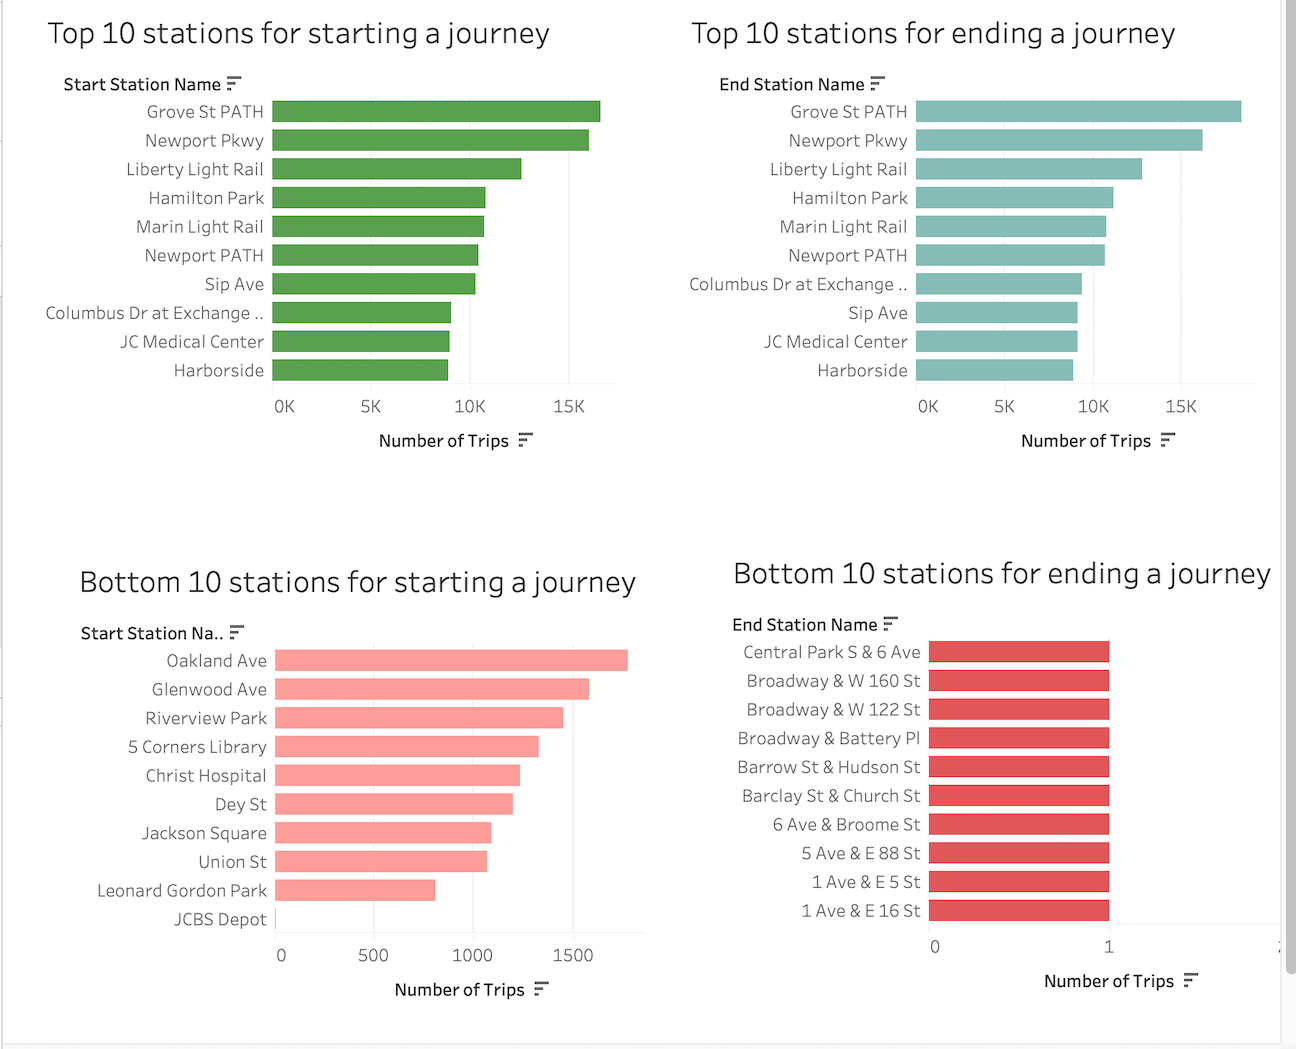

Layout of this report page (visuals, bound fields, positions):
{"tool":"tableau","page":{"name":"Top 10/ Bottom 10","canvas":[1000,800],"ordinal":4},"visuals":[{"type":"worksheet","title":"Top 10 stations for starting a journey","mark":"Automatic","rows":["start station name"],"cols":["07-2020-04-2021-citibike-tripdata.csv_07FDA5F46E834DD6AF8577"],"box":[63,31,400,342]},{"type":"worksheet","title":"Top 10 stations for ending a journey","mark":"Automatic","rows":["end station name"],"cols":["07-2020-04-2021-citibike-tripdata.csv_07FDA5F46E834DD6AF8577"],"box":[511,31,398,341]},{"type":"worksheet","title":"Bottom 10 stations for ending a journey","mark":"Automatic","rows":["end station name"],"cols":["07-2020-04-2021-citibike-tripdata.csv_07FDA5F46E834DD6AF8577"],"box":[540,407,392,366]},{"type":"worksheet","title":"Bottom 10 stations for starting a journey","mark":"Automatic","rows":["start station name"],"cols":["07-2020-04-2021-citibike-tripdata.csv_07FDA5F46E834DD6AF8577"],"box":[85,413,398,339]}]}

Visuals, with their boxes in screenshot pixels (x1, y1, x2, y2), scaled from the page's 1000x800 canvas onto the 1296x1049 screenshot:
"Top 10 stations for starting a journey" worksheet: Rect(82, 41, 600, 489)
"Top 10 stations for ending a journey" worksheet: Rect(662, 41, 1178, 488)
"Bottom 10 stations for ending a journey" worksheet: Rect(700, 534, 1208, 1014)
"Bottom 10 stations for starting a journey" worksheet: Rect(110, 542, 626, 986)
